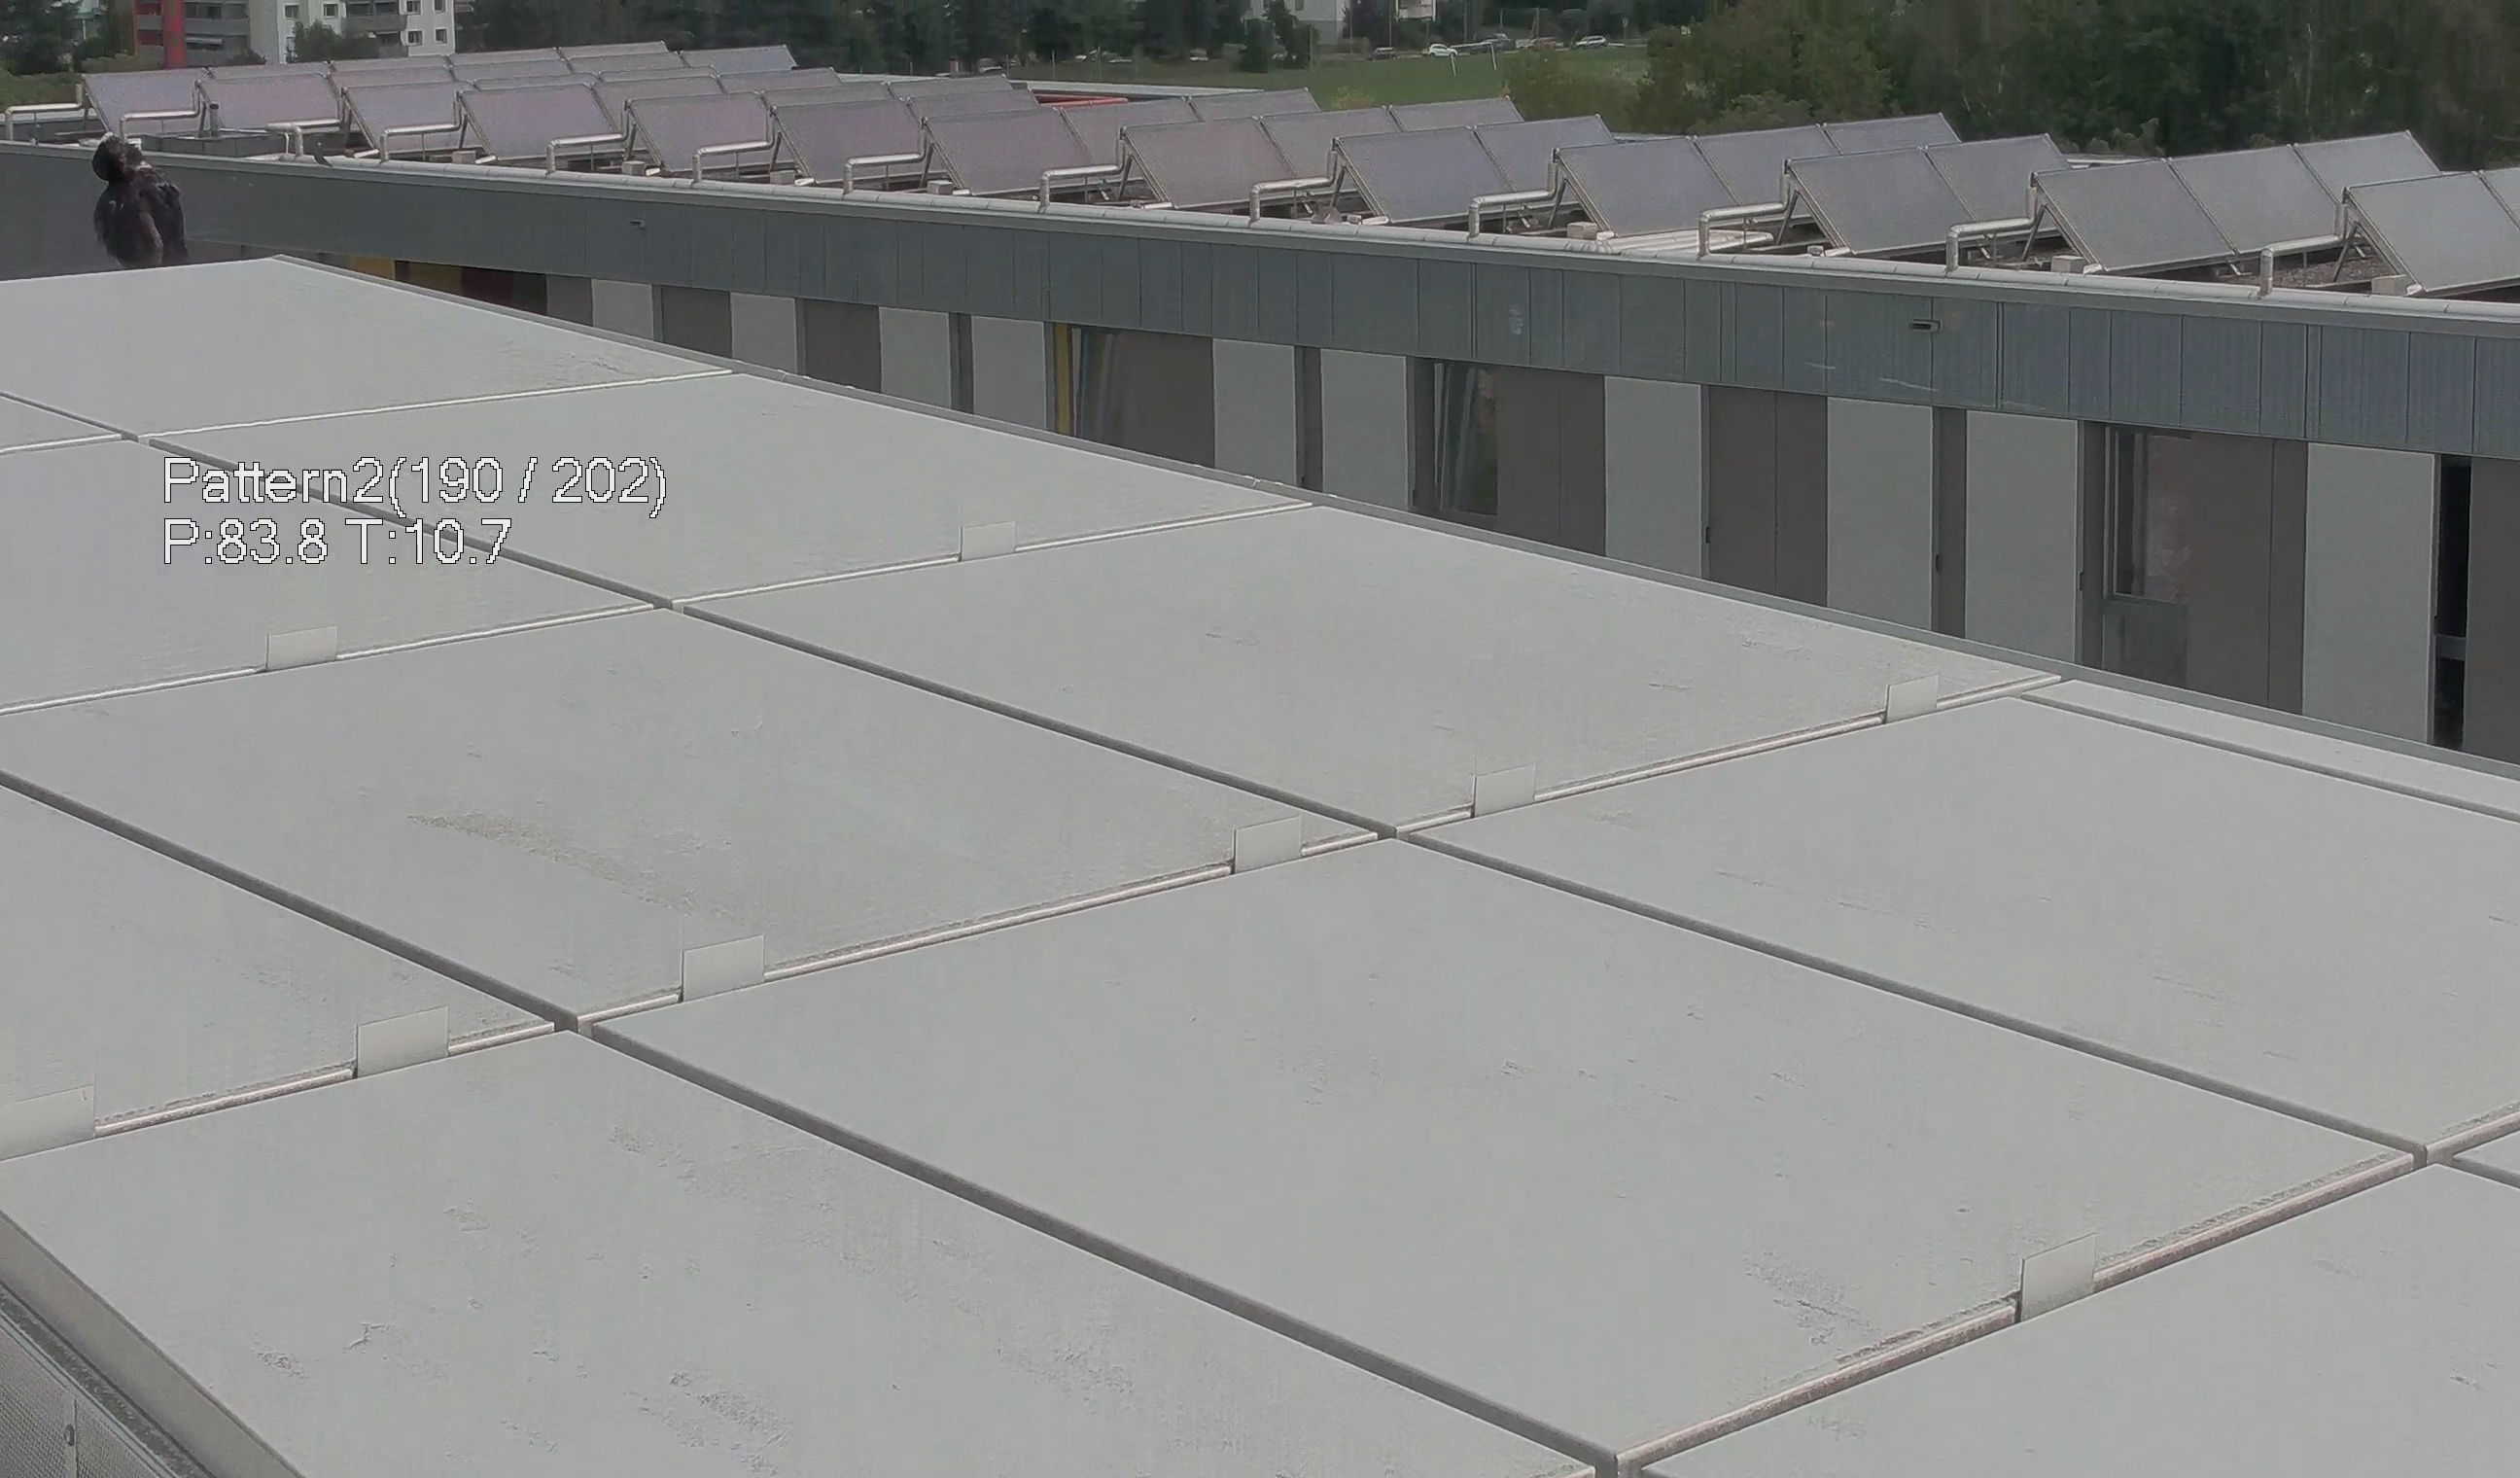Pigeon: (74, 127, 213, 273)
